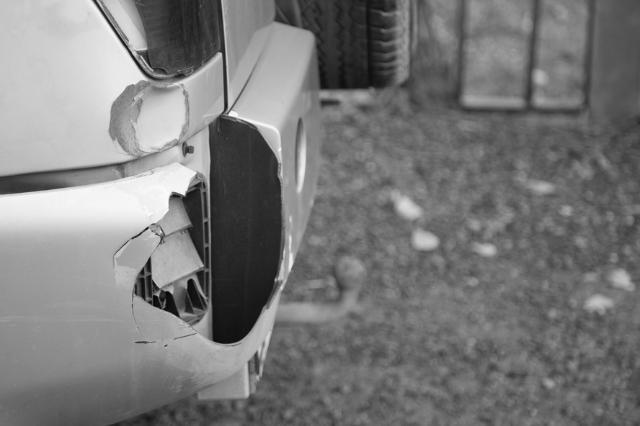Bumper: (84, 162, 282, 401)
Fender: (78, 60, 220, 162)
